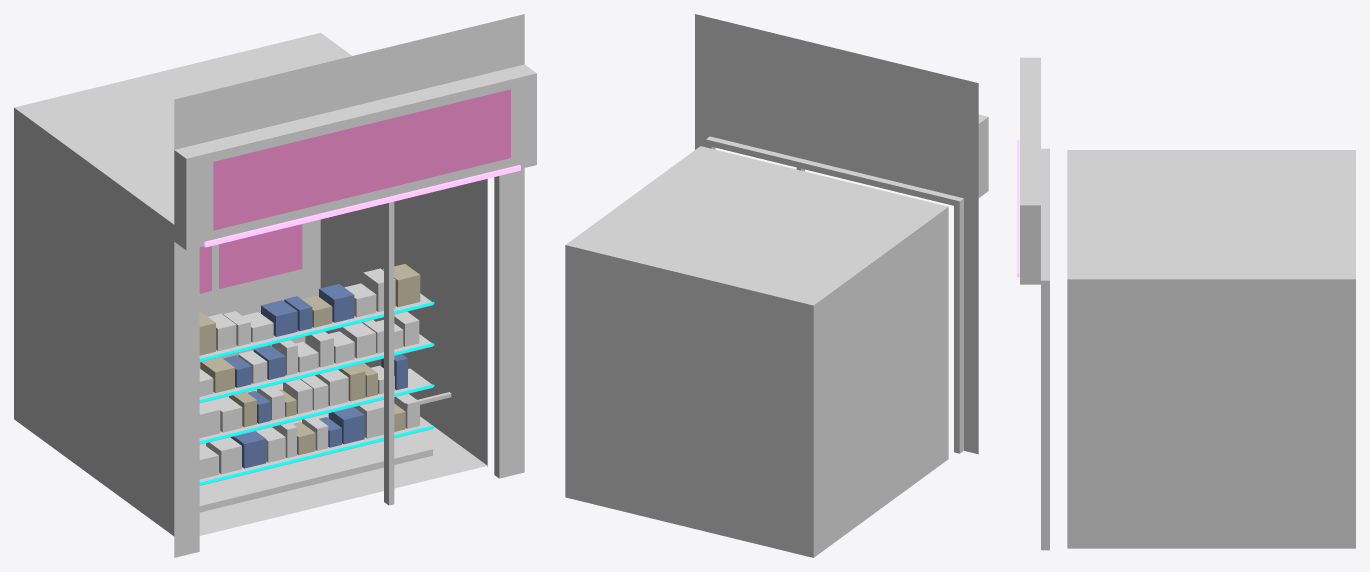
File: OCK_Bay_Storefront_E.fbx
The picture shows the model from 3 angles, left to right: view 1: azimuth 30°, elevation 25°; view 2: azimuth 150°, elevation 25°; view 3: azimuth 270°, elevation 25°; orthographic projection. The views are drawn at different scales.
Parts seen in each view (by area): view 1: OCK_Bay_Storefront_E; view 2: OCK_Bay_Storefront_E; view 3: OCK_Bay_Storefront_E.
Part boxes in pixels (box(x1,y1,x2,y2)): OCK_Bay_Storefront_E: box(14, 14, 536, 557); OCK_Bay_Storefront_E: box(565, 14, 988, 557); OCK_Bay_Storefront_E: box(1017, 57, 1355, 550).
Size of the model in its own units: 400 by 500 by 388.
